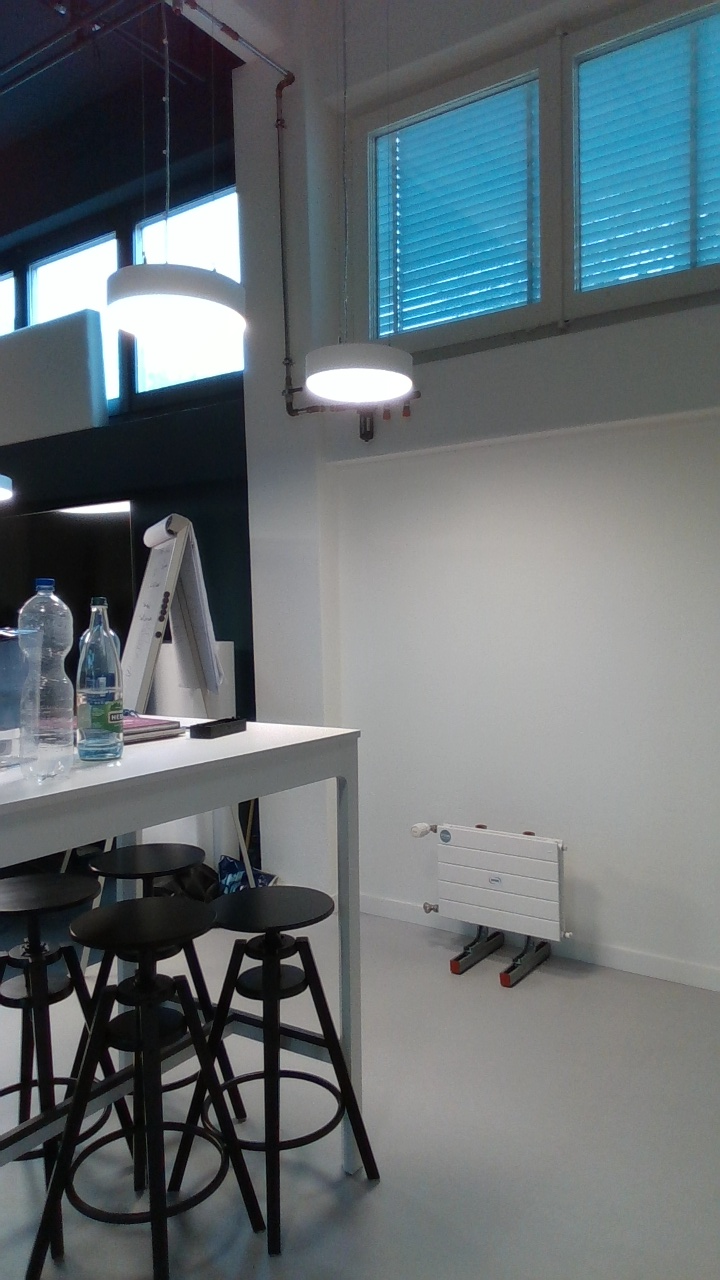Radiator: (431, 821, 573, 947)
